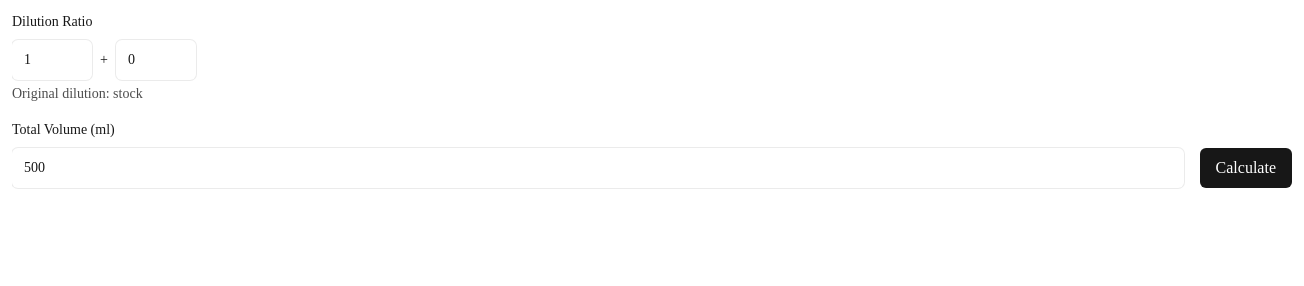
Test case: VolumeMixer › parses stock dilution (all developer, no water)
The image size is (1304, 286).
Click the button "Calculate" at (1246, 168), box [1200,148,1292,188]
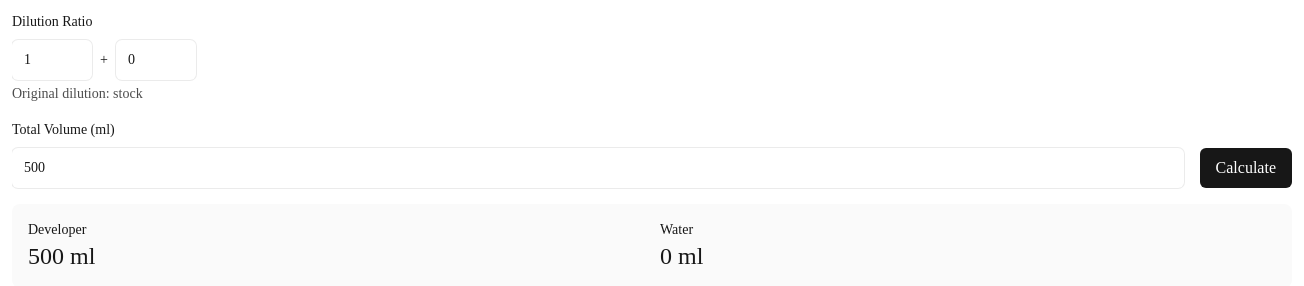
Check: the text "Developer" shows "500 ml", box [28,222,95,269]
Check: the text "0 ml" is shown, box [660,243,703,269]
